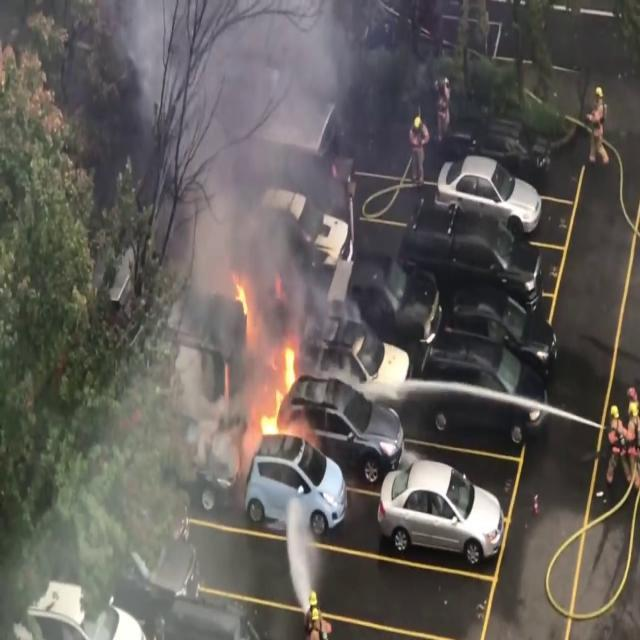Fire: (227, 270, 304, 440)
Smoke: (7, 0, 341, 342), (156, 0, 338, 340)
